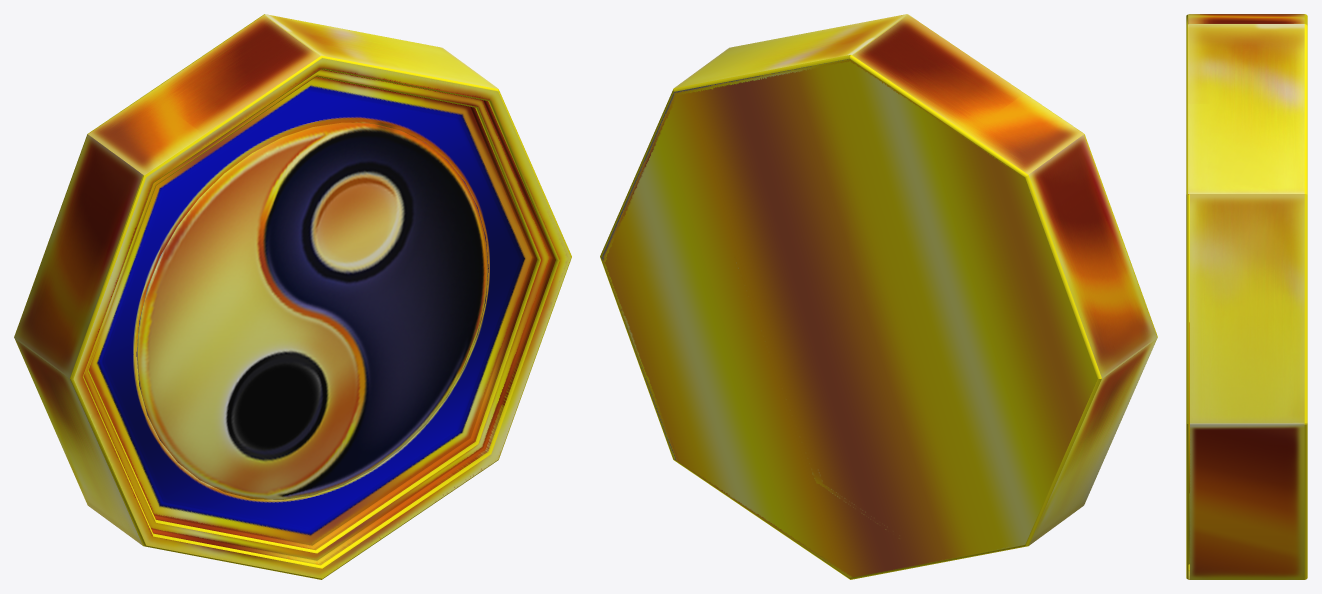
File: taiji3d.FBX
3 views of the same model, side by side, from view 1: azimuth 30°, elevation 25°; view 2: azimuth 150°, elevation 25°; view 3: azimuth 270°, elevation 25° (orthographic). The views are drawn at different scales.
Visible parts, largest first — view 1: Cylin1, Cylinder, Cylin; view 2: Cylin1, Cylin; view 3: Cylin1, Cylin.
Boxes of the visible parts, <box> form: Cylin1: <box>14,14,570,578</box>; Cylinder: <box>136,122,488,499</box>; Cylin: <box>14,14,571,579</box>; Cylin1: <box>601,14,1157,577</box>; Cylin: <box>600,16,1157,579</box>; Cylin1: <box>1188,14,1304,579</box>; Cylin: <box>1186,14,1307,579</box>.
Size of the model in its own units: 200 by 200 by 40.4.
Materials: 1 (1 with a texture image).
